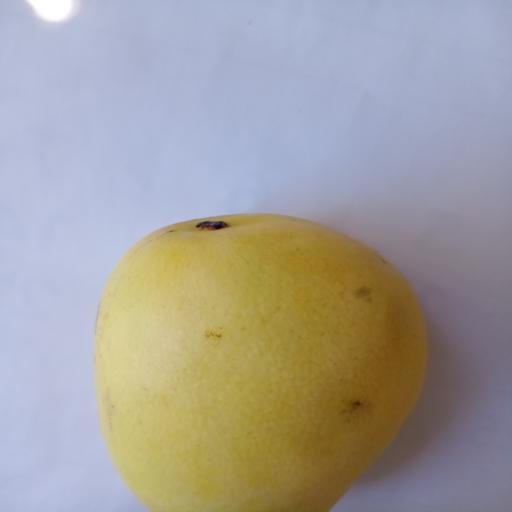mango-ripe: (69, 186, 435, 512)
